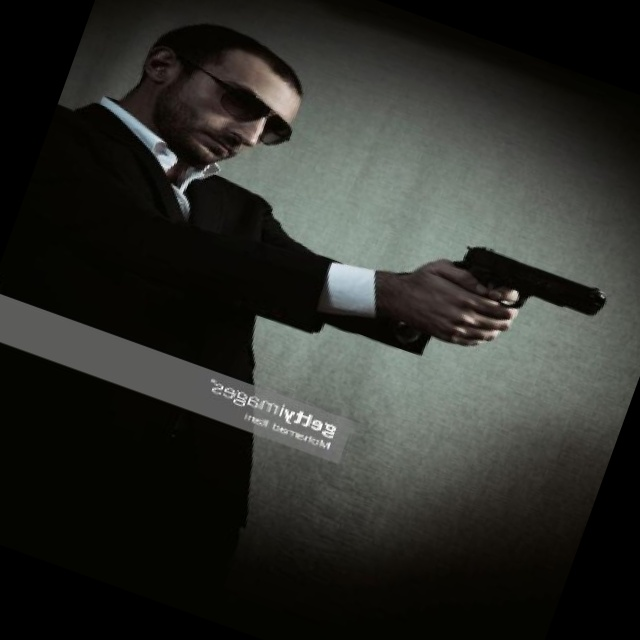gun: (440, 228, 628, 358)
